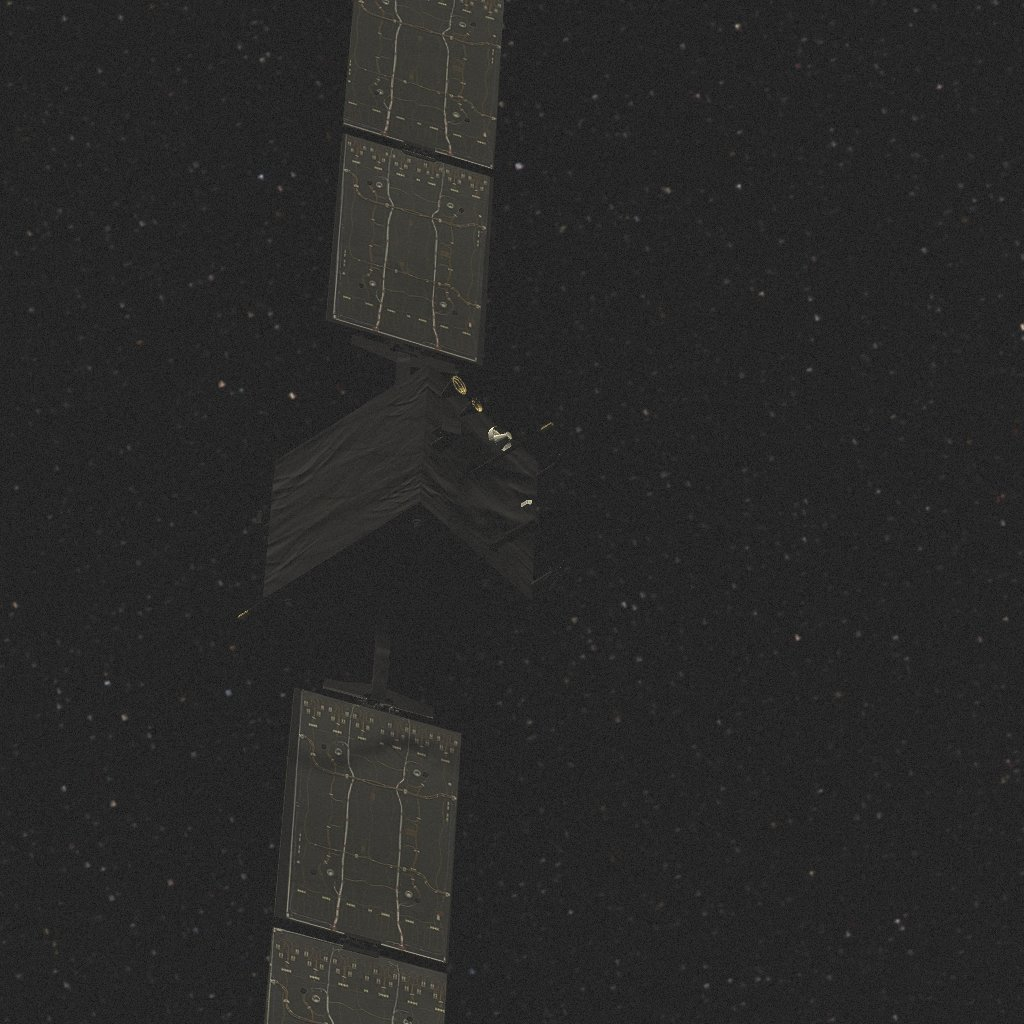smart_1: (238, 0, 575, 1024)
